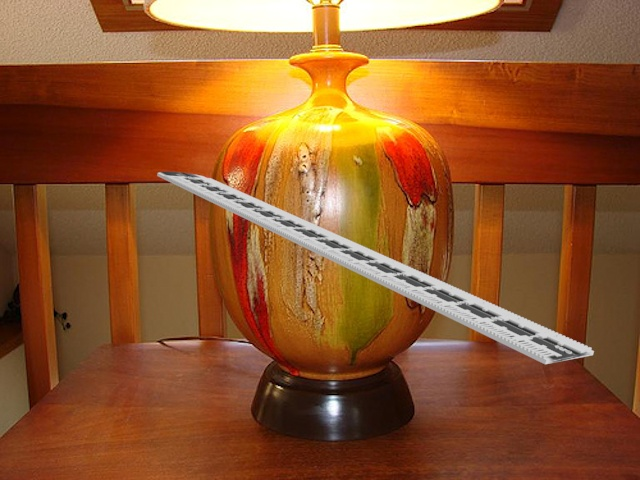ruler: (153, 169, 599, 368)
